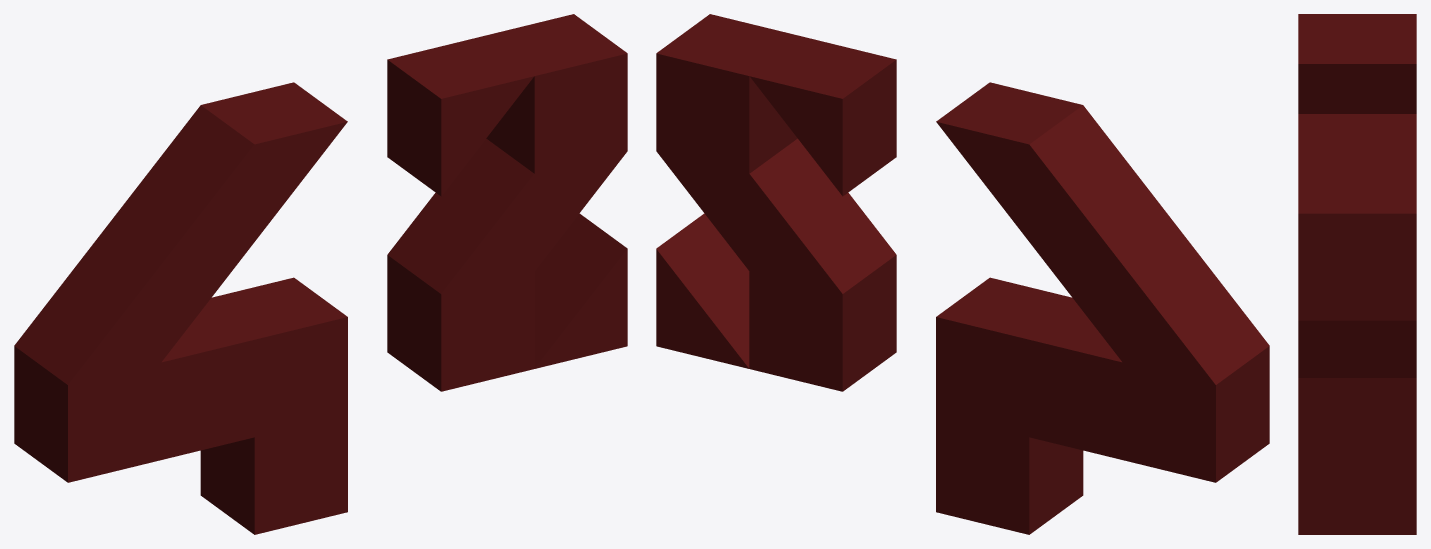
The model's file is forty_two.obj.
The picture shows the model from 3 angles, left to right: view 1: azimuth 30°, elevation 25°; view 2: azimuth 150°, elevation 25°; view 3: azimuth 270°, elevation 25°; orthographic projection. The views are drawn at different scales.
Visible parts, largest first — view 1: Cube, Cube.002; view 2: Cube, Cube.002; view 3: Cube.002, Cube.
Part boxes in pixels (x1=…): Cube: x1=14, y1=82, x2=347, y2=534; Cube.002: x1=387, y1=14, x2=627, y2=391; Cube: x1=936, y1=82, x2=1269, y2=534; Cube.002: x1=656, y1=14, x2=896, y2=391; Cube.002: x1=1298, y1=114, x2=1416, y2=534; Cube: x1=1298, y1=14, x2=1416, y2=113.
Bounding box in the file's own units: 6 × 4 × 1.
